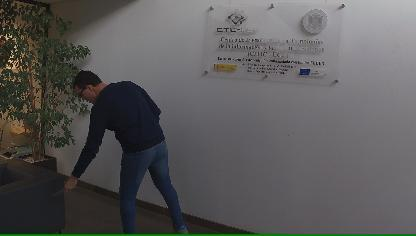knife: (49, 179, 75, 196)
